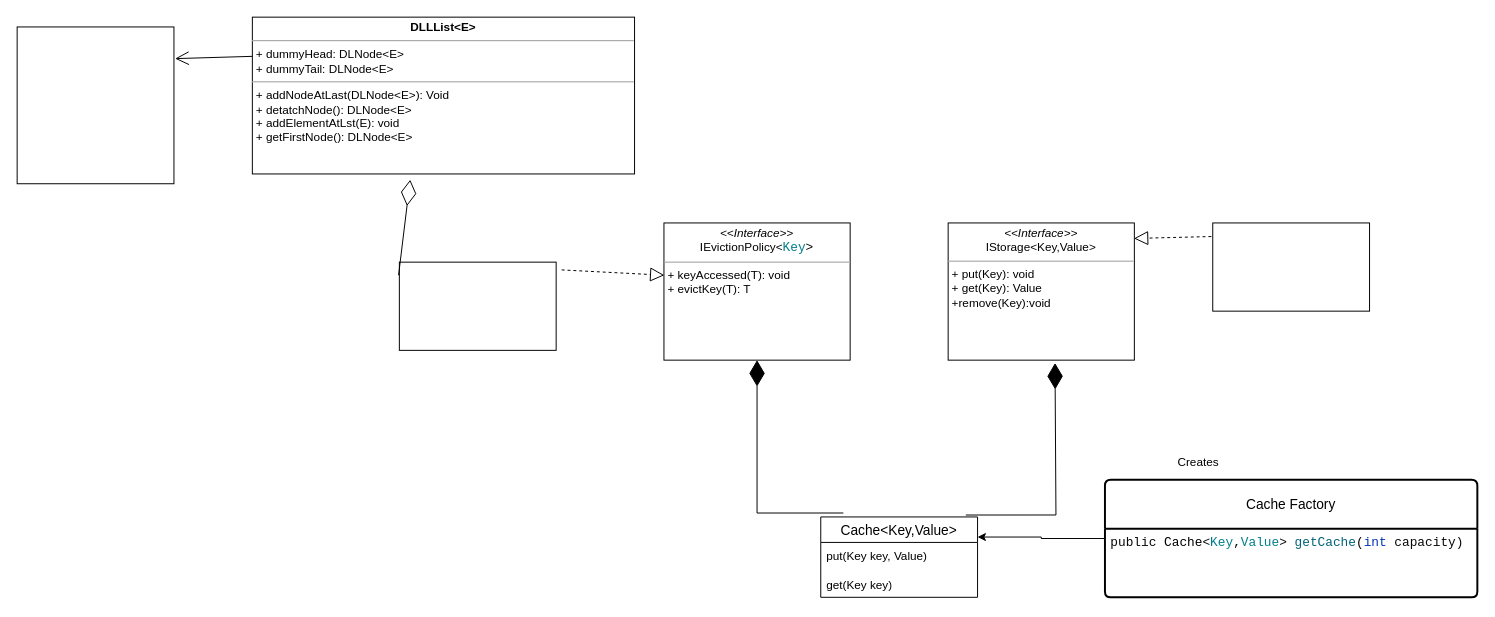
The diagram is 1495 pixels wide and 617 high, and some of its shapes have lost their labels. The shapes that lost their labels are listed below. From the top down, each one's centre as x and y in pixels, then its label:
the point at 95,105: DLNode<E> + left: DLNode<E> +right: DLNode<E> +value : E + getValue(): E
the point at 1291,266: HashStorage<Key,Value> + map: Integer + map(): HashMap<Key,Value>
the point at 477,305: LRUEvictionPolicy + map: Map<Key,Value>
